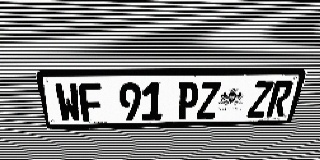1: (142, 82, 163, 120)
9: (119, 82, 141, 121)
F: (78, 83, 104, 122)
P: (176, 82, 200, 119)
R: (266, 81, 295, 117)
W: (54, 83, 82, 122)
Z: (246, 81, 274, 118), (196, 82, 221, 119)
